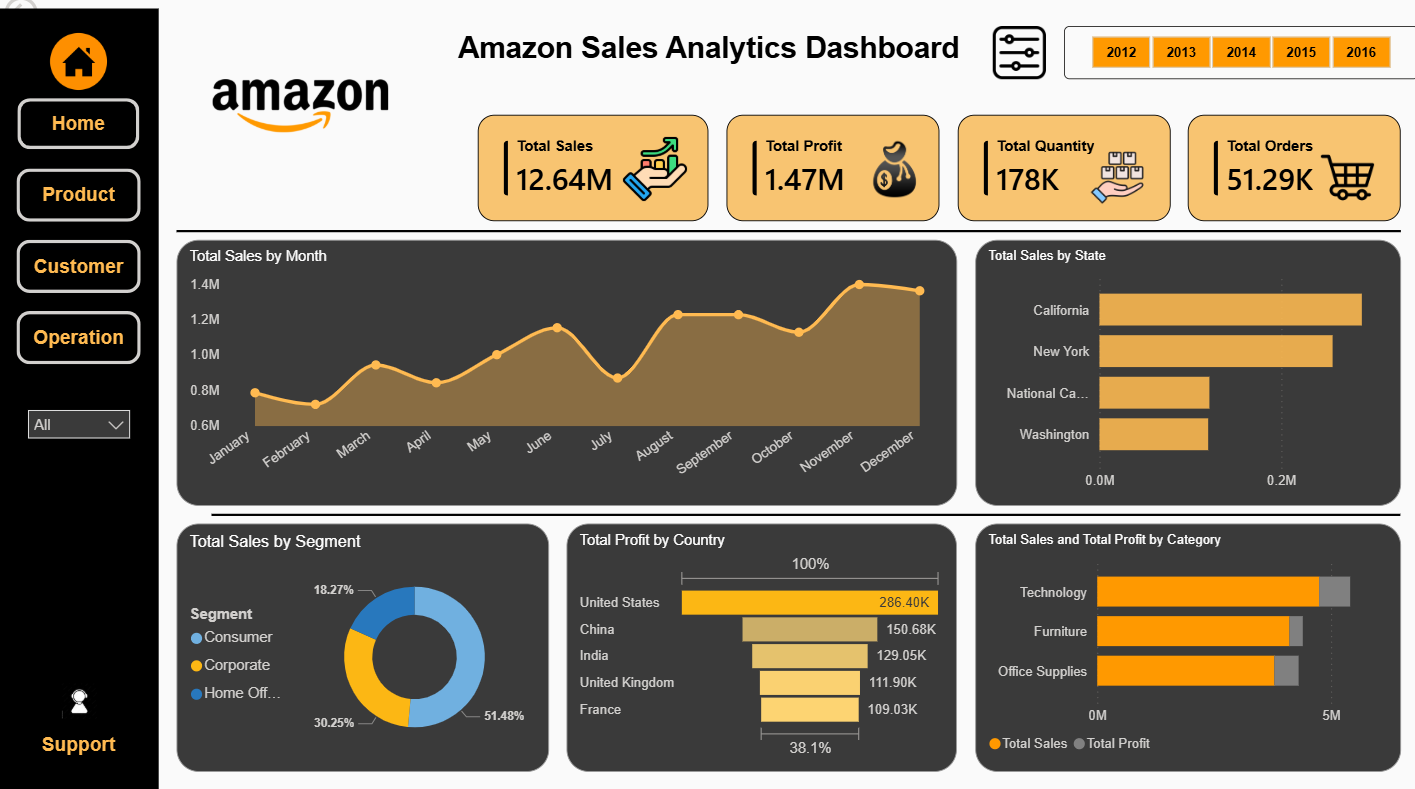

The dashboard page shown, as its layout file describes it:
{"tool":"powerbi","page":{"name":"Buisness Overview","canvas":[1280,720],"ordinal":0},"visuals":[{"type":"textbox","box":[0,16,1280,85],"z":0},{"type":"image","box":[96,16,352,176],"z":1000},{"type":"slicer","fields":{"Values":["Calender.Year"]},"box":[960,32,320,48],"z":2000},{"type":"cardVisual","fields":{"Data":["Sales data.Total Sales"]},"box":[432,112,208,96],"z":3000},{"type":"cardVisual","fields":{"Data":["Sales data.Total Profit"]},"box":[656,112,192,96],"z":4000},{"type":"cardVisual","fields":{"Data":["Sales data.Total Quantity"]},"box":[864,112,192,96],"z":5000},{"type":"cardVisual","fields":{"Data":["CountNonNull(Sales data.Order ID)"]},"box":[1072,112,192,96],"z":6000},{"type":"barChart","fields":{"Y":["Sales data.Total Sales","Sales data.Total Profit"],"Category":["Sales data.Category"]},"box":[880,480,384,224],"z":7000},{"type":"donutChart","fields":{"Y":["Sales data.Total Sales"],"Category":["Sales data.Segment"]},"box":[160,480,336,224],"z":8000},{"type":"clusteredBarChart","fields":{"Y":["Sales data.Total Sales"],"Category":["Sales data.City","Sales data.Country","Sales data.State"]},"box":[880,224,384,240],"z":9000},{"type":"actionButton","box":[0,0,100,40],"z":10000},{"type":"funnel","fields":{"Y":["Sales data.Total Profit"],"Category":["Sales data.Country","Sales data.Region","Sales data.State"]},"box":[512,480,352,224],"z":11000},{"type":"textbox","box":[0,16,144,704],"z":12000},{"type":"shape","box":[160,208,1104,16],"z":13000},{"type":"shape","box":[192,464,1072,16],"z":14000},{"type":"image","box":[768,128,80,64],"z":15000},{"type":"image","box":[16,32,112,64],"z":16000},{"type":"actionButton","box":[16,96,112,48],"z":17000},{"type":"actionButton","box":[16,160,112,48],"z":18000},{"type":"actionButton","box":[16,224,112,48],"z":19000},{"type":"actionButton","box":[16,288,112,48],"z":20000},{"type":"actionButton","box":[16,656,112,48],"z":21000},{"type":"image","box":[48,624,48,32],"z":22000},{"type":"image","box":[896,32,48,48],"z":23000},{"type":"image","box":[1152,144,128,48],"z":24000},{"type":"image","box":[960,144,96,48],"z":25000},{"type":"image","box":[528,128,128,64],"z":26000},{"type":"slicer","fields":{"Values":["Sales data.Order Priority"]},"box":[16,368,112,48],"z":27000},{"type":"lineChart","fields":{"Y":["Sales data.Total Sales"],"Category":["Calender.Calender.Variation.Date Hierarchy.Month"]},"box":[160,224,704,240],"z":28000}]}

Visuals, with their boxes in screenshot pixels (x1, y1, x2, y2), scaled from the page's 1280x720 canvas onto the 1415x789 screenshot:
textbox: bbox(0, 18, 1414, 111)
image: bbox(106, 18, 495, 210)
slicer - Calender.Year: bbox(1061, 35, 1414, 88)
cardVisual - Sales data.Total Sales: bbox(478, 123, 708, 228)
cardVisual - Sales data.Total Profit: bbox(725, 123, 937, 228)
cardVisual - Sales data.Total Quantity: bbox(955, 123, 1167, 228)
cardVisual - CountNonNull(Sales data.Order ID): bbox(1185, 123, 1397, 228)
barChart - Sales data.Total Sales x Sales data.Total Profit: bbox(973, 526, 1397, 771)
donutChart - Sales data.Total Sales x Sales data.Segment: bbox(177, 526, 548, 771)
clusteredBarChart - Sales data.Total Sales x Sales data.City: bbox(973, 245, 1397, 508)
actionButton: bbox(0, 0, 111, 44)
funnel - Sales data.Total Profit x Sales data.Country: bbox(566, 526, 955, 771)
textbox: bbox(0, 18, 159, 788)
shape: bbox(177, 228, 1397, 245)
shape: bbox(212, 508, 1397, 526)
image: bbox(849, 140, 937, 210)
image: bbox(18, 35, 142, 105)
actionButton: bbox(18, 105, 142, 158)
actionButton: bbox(18, 175, 142, 228)
actionButton: bbox(18, 245, 142, 298)
actionButton: bbox(18, 316, 142, 368)
actionButton: bbox(18, 719, 142, 771)
image: bbox(53, 684, 106, 719)
image: bbox(990, 35, 1044, 88)
image: bbox(1274, 158, 1414, 210)
image: bbox(1061, 158, 1167, 210)
image: bbox(584, 140, 725, 210)
slicer - Sales data.Order Priority: bbox(18, 403, 142, 456)
lineChart - Sales data.Total Sales x Calender.Calender.Variation.Date Hierarchy.Month: bbox(177, 245, 955, 508)
